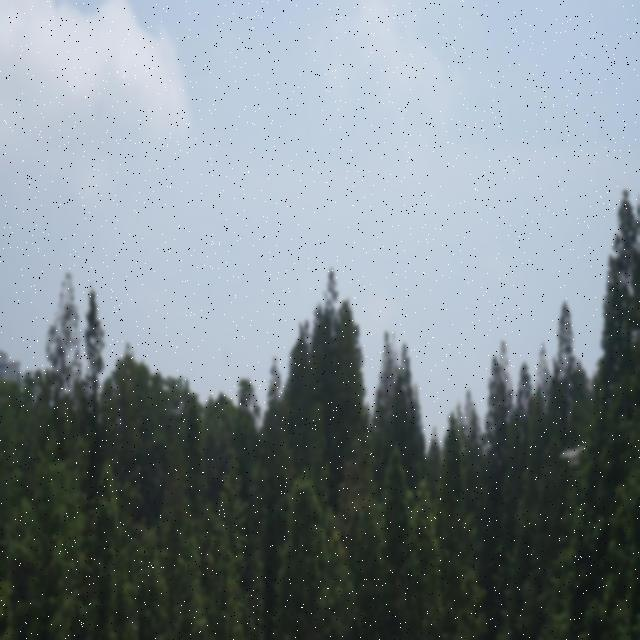UAV: (560, 446, 586, 466)
